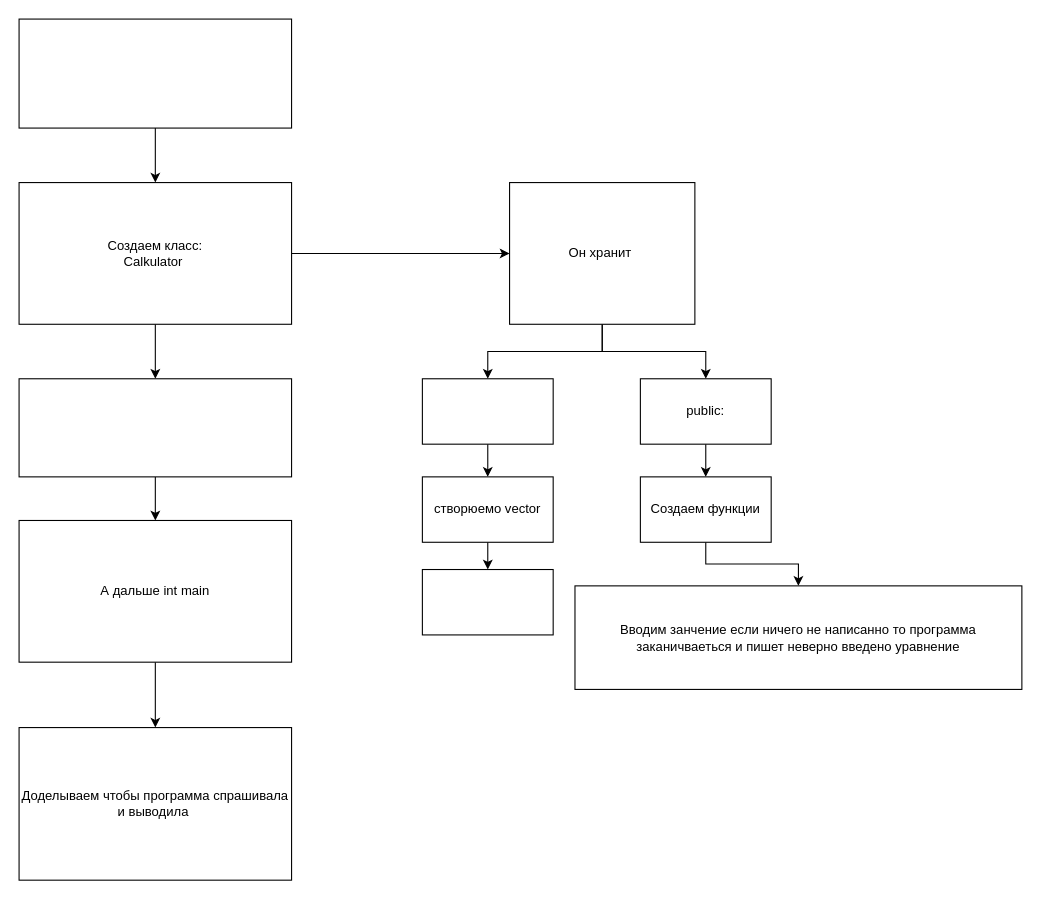
Some shapes in this 1041 by 899 pixel diagram are drawn without their labels. Here are the shapes that lost their labels. From the top down, the box of each, then its label:
(18, 18, 292, 128): Include: iostream vector cmath Windows.h
(18, 378, 292, 477): создаем функцию и алгоритм которые будет определять знак выражения
(421, 378, 553, 444): private:
(421, 568, 553, 635): создаем лямбду функции
